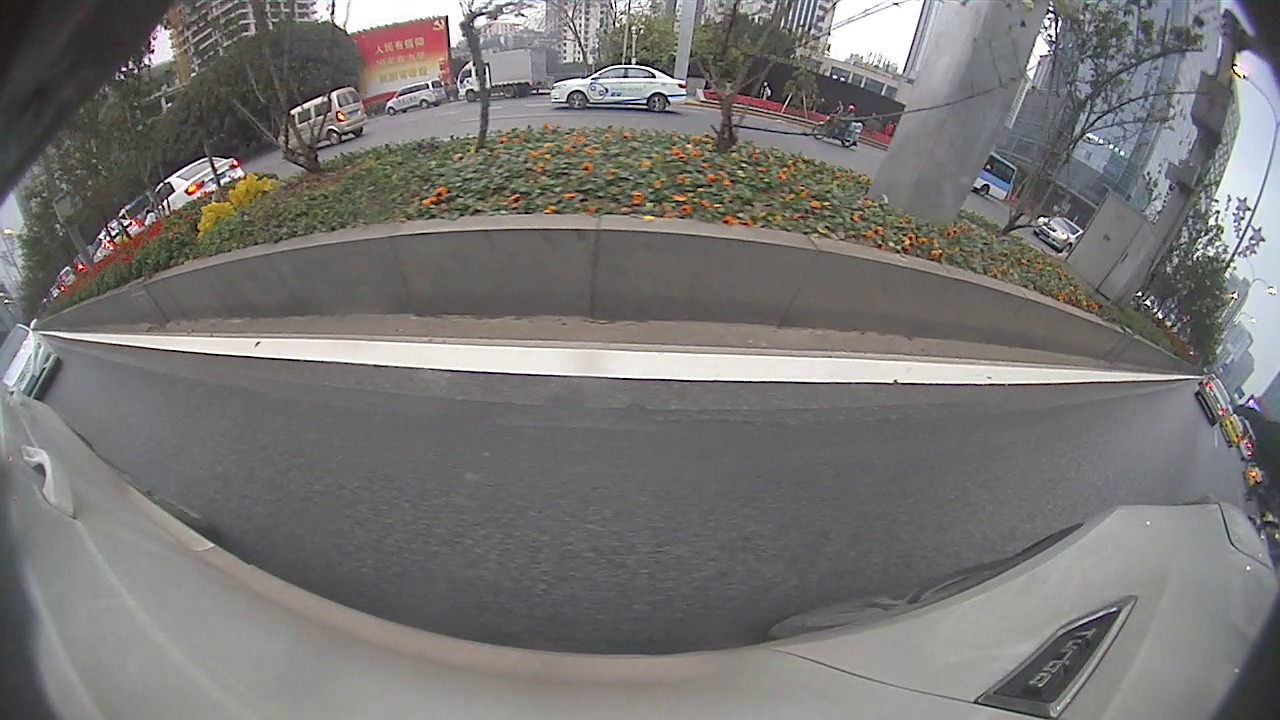car: (548, 63, 688, 116), (288, 85, 369, 150), (0, 318, 61, 404), (382, 78, 456, 118), (1195, 375, 1230, 428)
front: (567, 91, 589, 111), (465, 90, 478, 103), (387, 107, 396, 117)
rear: (647, 93, 669, 113), (503, 84, 518, 100), (328, 131, 342, 146), (978, 185, 989, 198), (420, 100, 429, 110)
truck: (452, 47, 546, 103)
